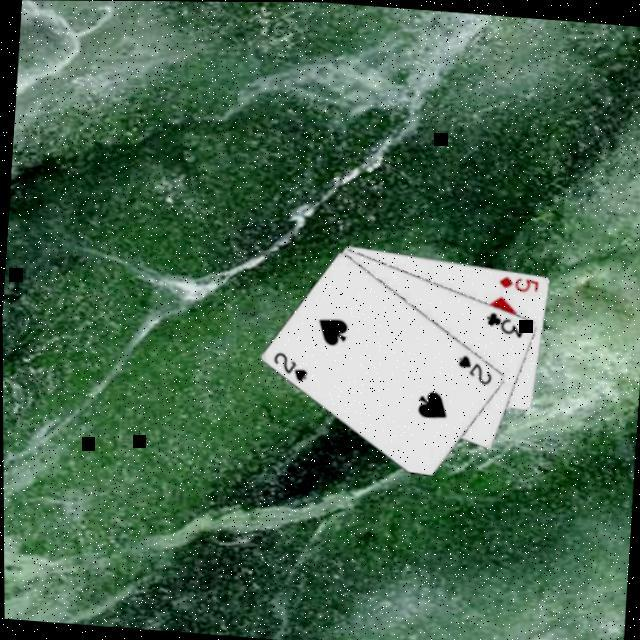2S: (452, 349, 494, 386), (268, 347, 310, 384)
3C: (481, 306, 527, 339)
5D: (494, 270, 540, 293)
